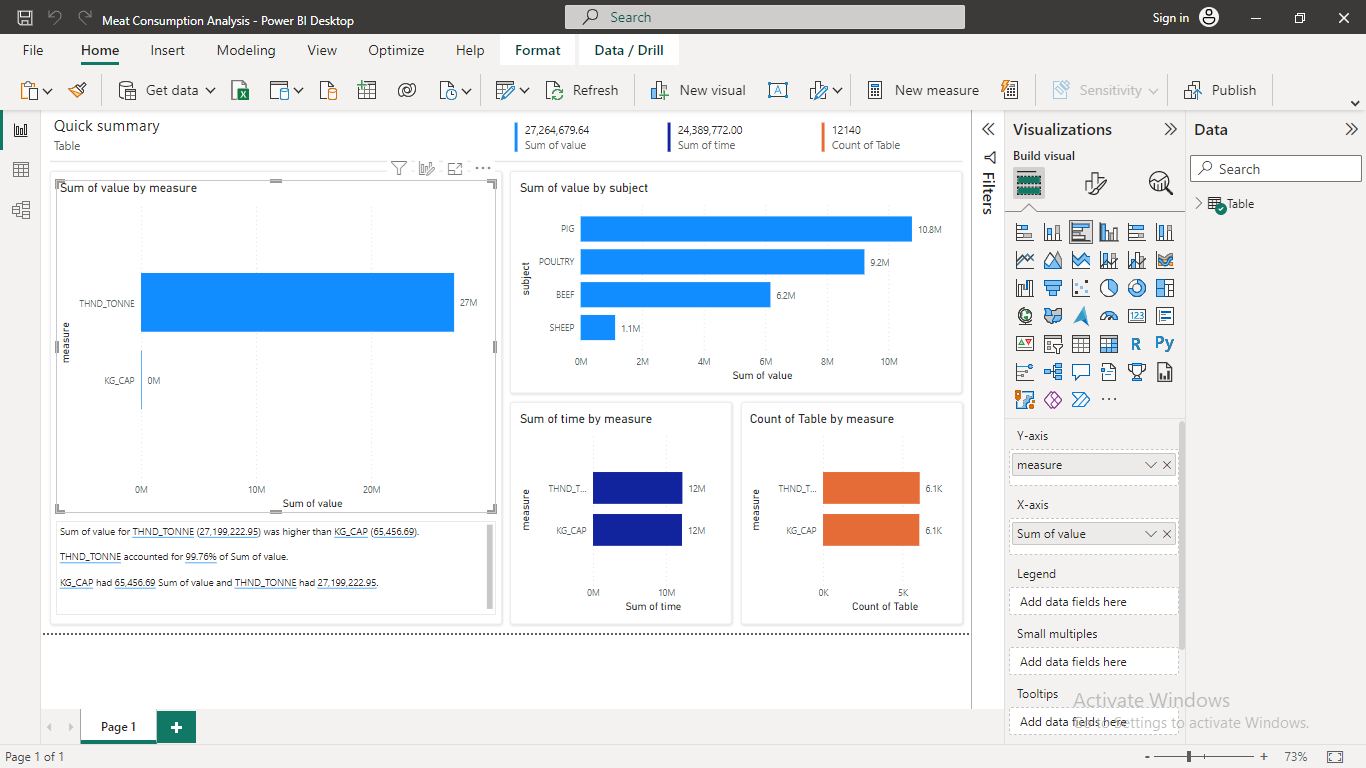

What the dashboard file says about the page in this screenshot:
{"tool":"powerbi","page":{"name":"Page 1","canvas":[1280,720],"ordinal":0},"visuals":[{"type":"shape","box":[12,58,1256,26],"z":0},{"type":"shape","box":[12,84,622,624],"z":1000},{"type":"shape","box":[646,84,622,306],"z":2000},{"type":"shape","box":[646,402,305,306],"z":3000},{"type":"shape","box":[963,402,305,306],"z":4000},{"type":"clusteredBarChart","fields":{"Category":["Table.measure"],"Y":["Count(Table)"]},"box":[971,414,289,282],"z":5000},{"type":"clusteredBarChart","fields":{"Category":["Table.measure"],"Y":["Sum(Table.time)"]},"box":[654,414,289,282],"z":6000},{"type":"clusteredBarChart","fields":{"Category":["Table.subject"],"Y":["Sum(Table.value)"]},"box":[654,96,606,282],"z":7000},{"type":"textbox","box":[20,566,606,129],"z":8000},{"type":"clusteredBarChart","fields":{"Category":["Table.measure"],"Y":["Sum(Table.value)"]},"box":[20,96,606,458],"z":9000},{"type":"multiRowCard","fields":{"Values":["Count(Table)"]},"box":[1069,12,199,50],"z":10000},{"type":"multiRowCard","fields":{"Values":["Sum(Table.time)"]},"box":[858,12,199,50],"z":11000},{"type":"multiRowCard","fields":{"Values":["Sum(Table.value)"]},"box":[647,12,199,50],"z":12000},{"type":"textbox","box":[12,33,306,32],"z":13000},{"type":"textbox","box":[12,2,306,39],"z":14000}]}

Visuals, with their boxes on the page's 1280x720 design canvas (x1, y1, x2, y2). These are canvas units, not pixel positions in the 1366x768 screenshot, which may show the page scaled, cropped or inside an application window:
shape: box=[12, 58, 1268, 84]
shape: box=[12, 84, 634, 708]
shape: box=[646, 84, 1268, 390]
shape: box=[646, 402, 951, 708]
shape: box=[963, 402, 1268, 708]
clusteredBarChart - Table.measure x Count(Table): box=[971, 414, 1260, 696]
clusteredBarChart - Table.measure x Sum(Table.time): box=[654, 414, 943, 696]
clusteredBarChart - Table.subject x Sum(Table.value): box=[654, 96, 1260, 378]
textbox: box=[20, 566, 626, 695]
clusteredBarChart - Table.measure x Sum(Table.value): box=[20, 96, 626, 554]
multiRowCard - Count(Table): box=[1069, 12, 1268, 62]
multiRowCard - Sum(Table.time): box=[858, 12, 1057, 62]
multiRowCard - Sum(Table.value): box=[647, 12, 846, 62]
textbox: box=[12, 33, 318, 65]
textbox: box=[12, 2, 318, 41]
